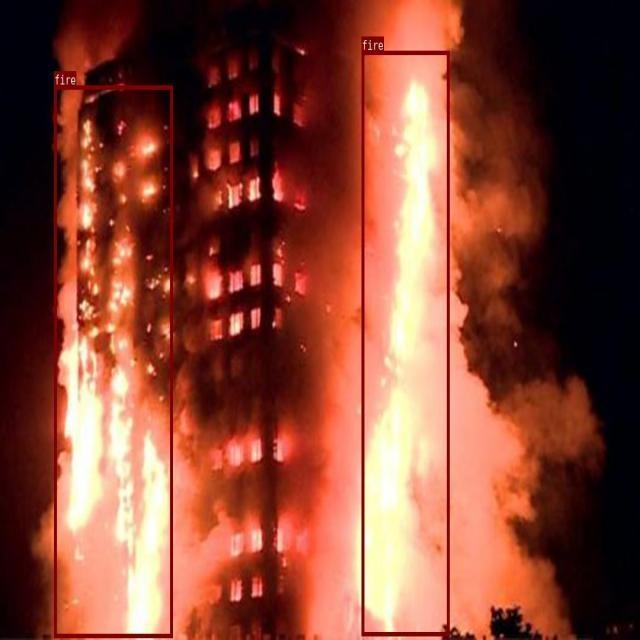fire: (53, 85, 172, 637), (361, 50, 449, 635)
